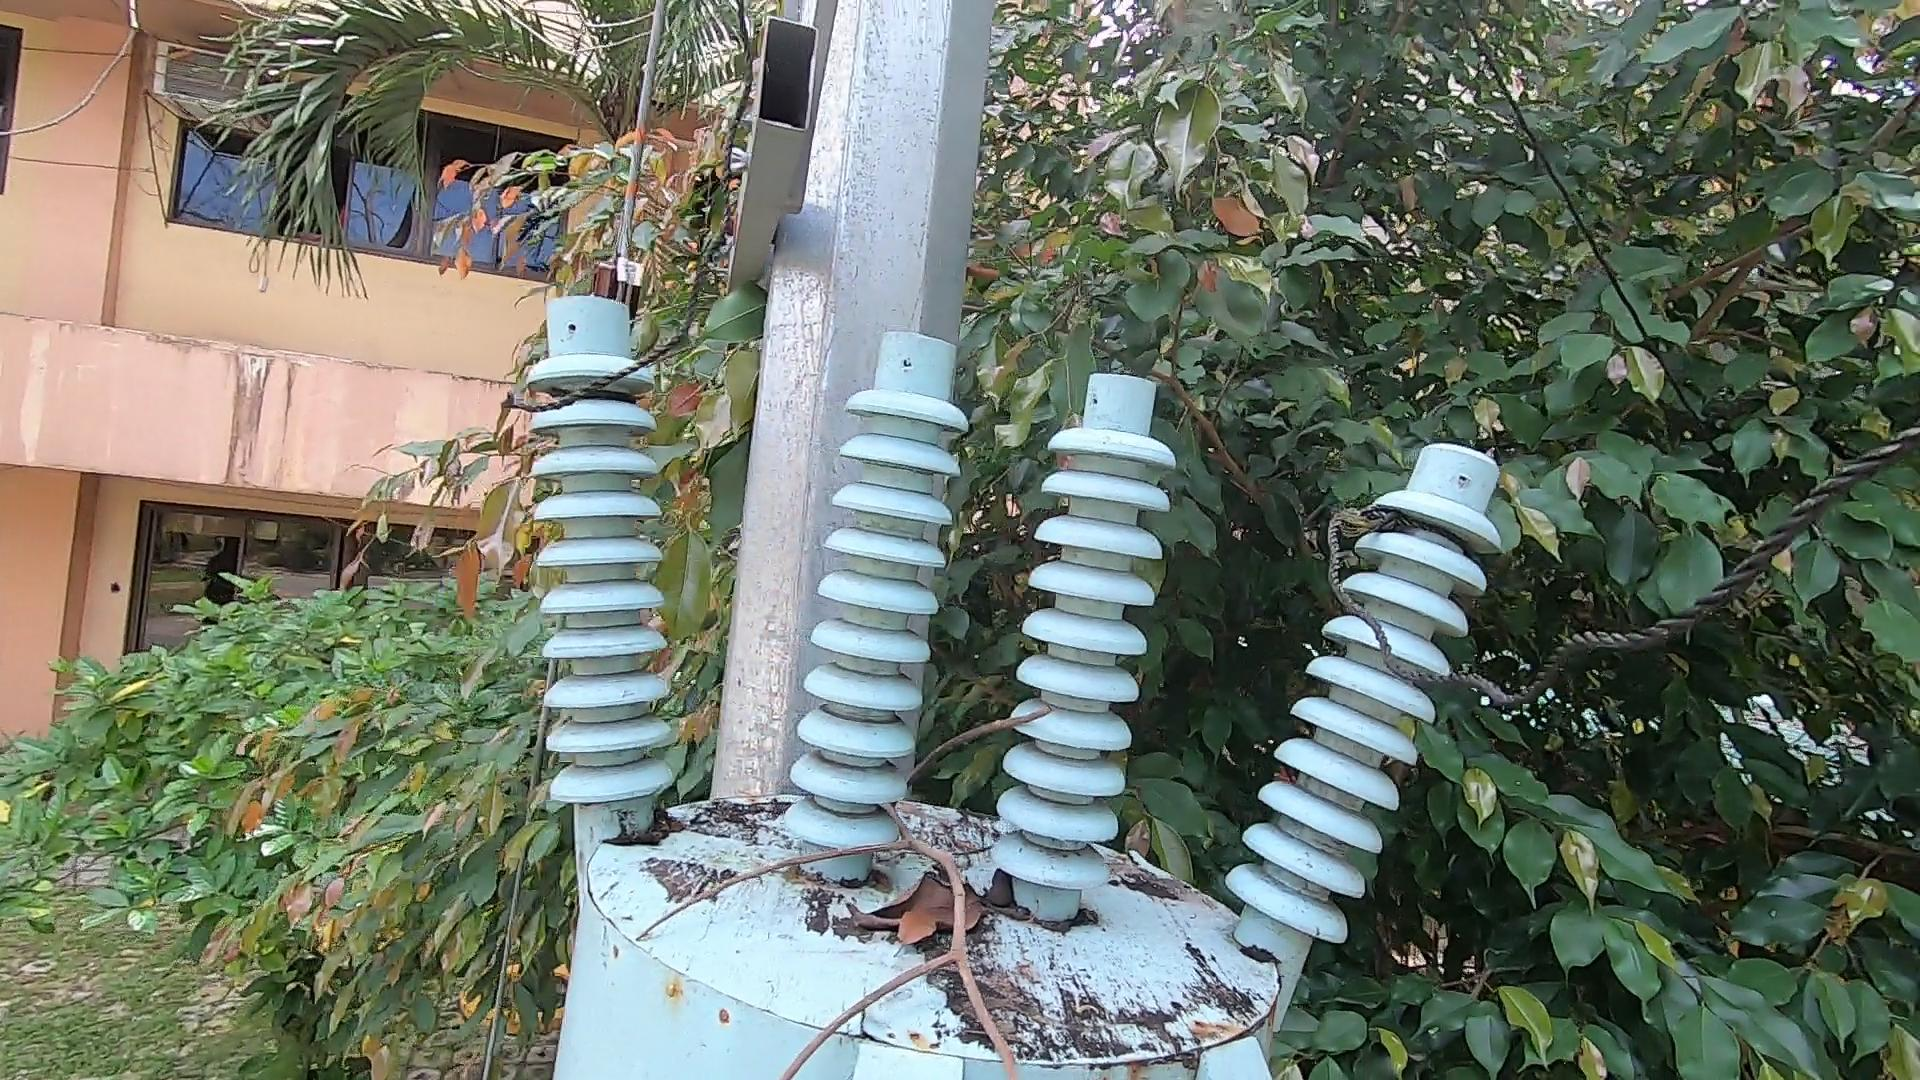leaf: (811, 872, 1010, 969), (592, 794, 680, 858)
tree branch: (611, 702, 1098, 1080)
